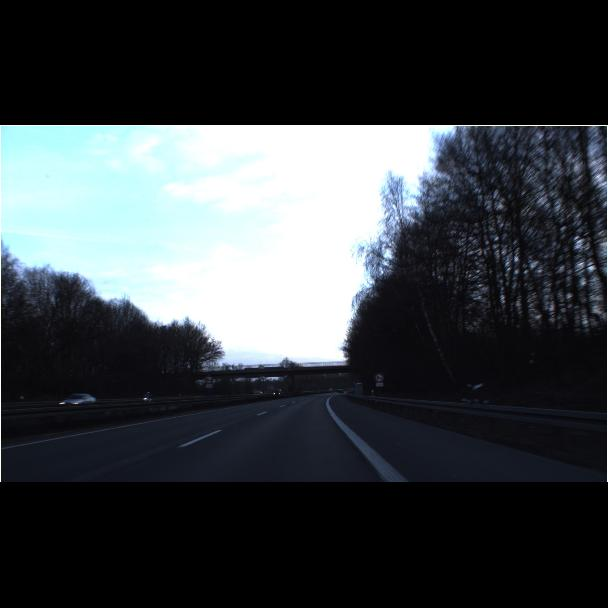no overtaking (trucks): (204, 373, 384, 385)
